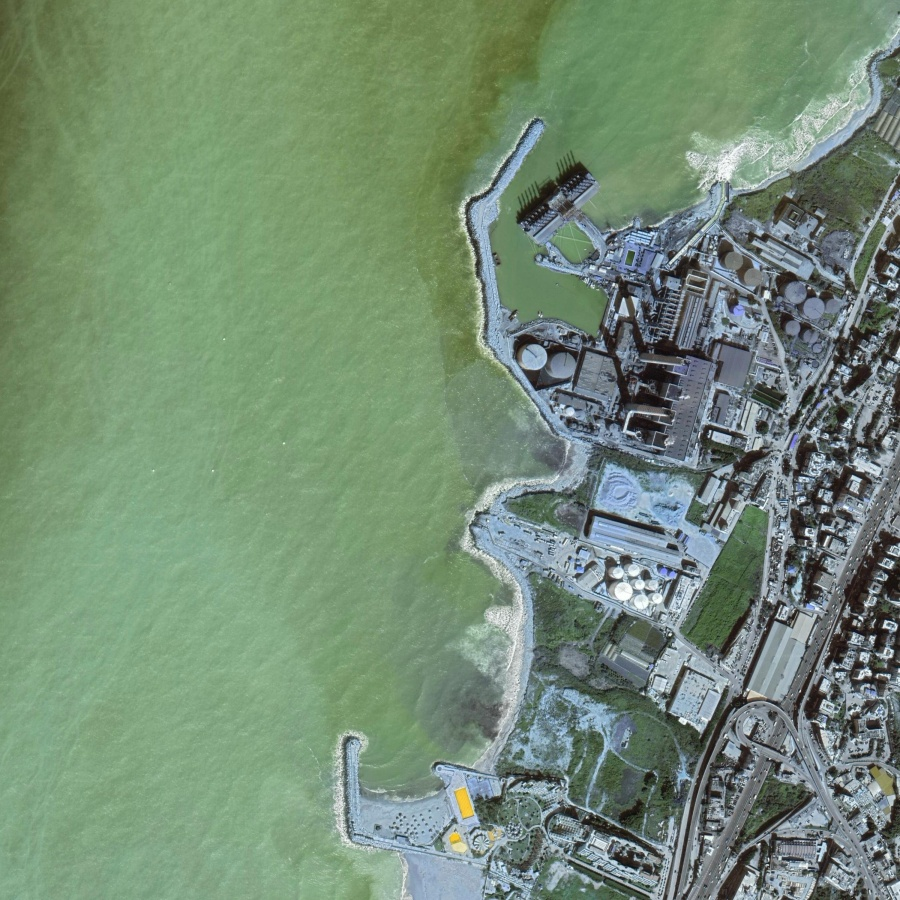PowerPlant: (505, 176, 850, 607)
